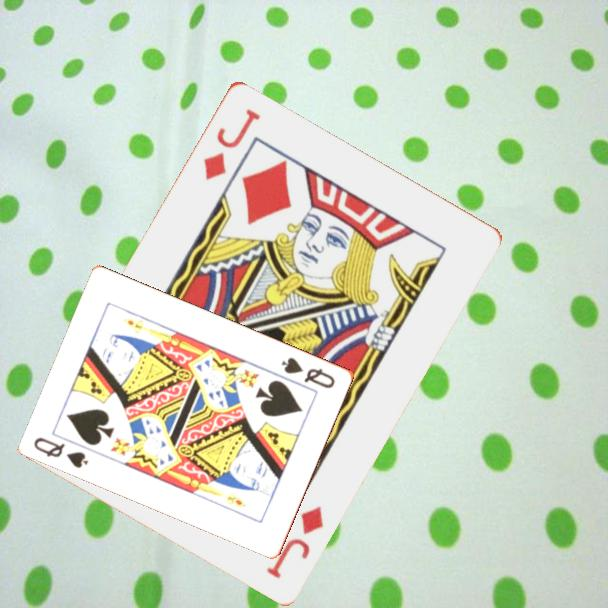d11: (262, 501, 327, 581), (199, 104, 263, 183)
s12: (31, 433, 92, 471), (278, 353, 338, 391)
